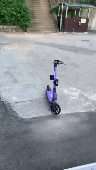beam: (44, 59, 66, 115)
